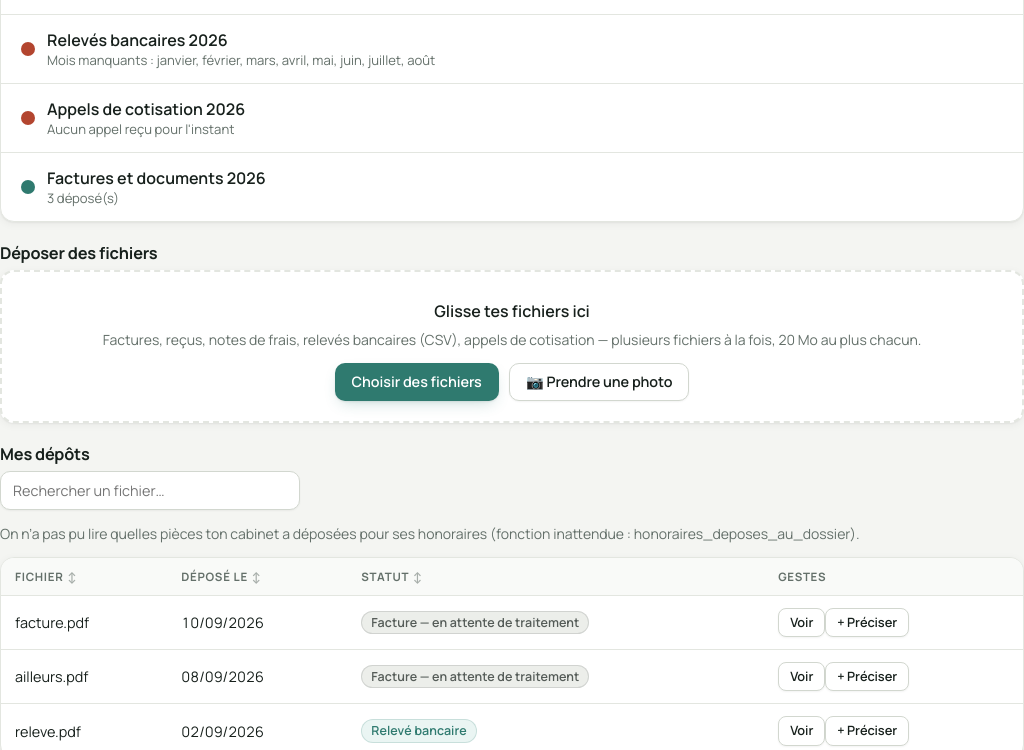
Test: « Voir » dans « Mes pièces » › un chemin d’un autre dossier n’est pas demandé au stockage, et l’échec se dit sans le chemin
(page scrolled)
What coordinates should you click on to do the following:
click the button "Voir" in the row of "ailleurs.pdf"
I would click on:
 (802, 677)
Its box is 778,662 -> 825,691.
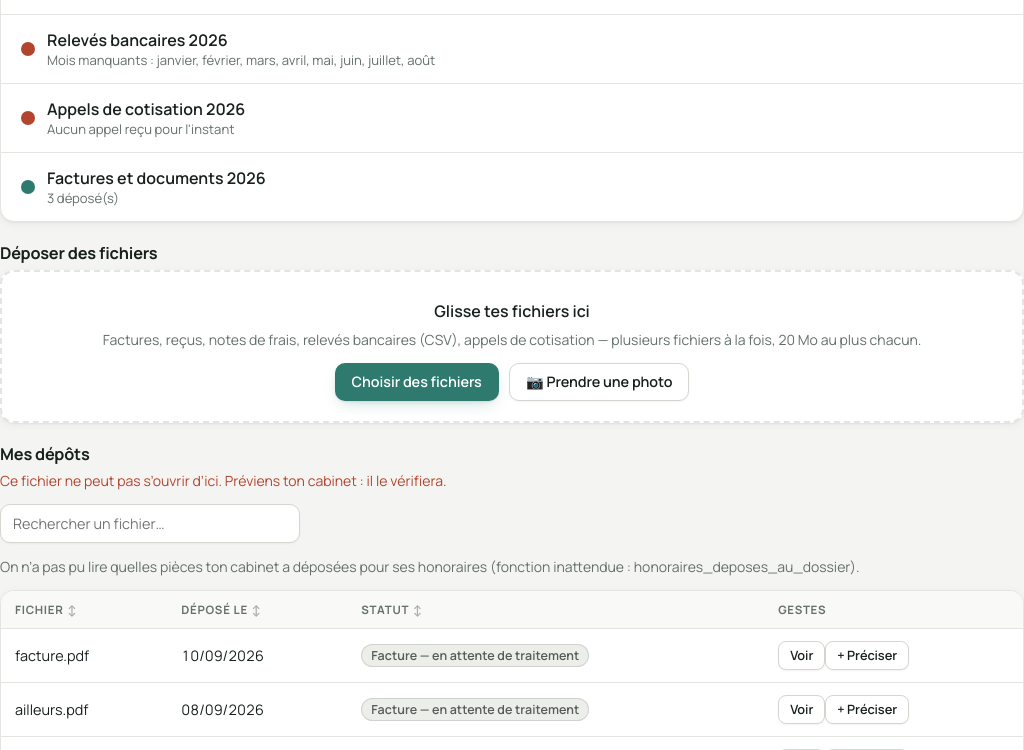
Expected: the message reads "Ce fichier ne peut pas s’ouvrir d’ici. Préviens ton cabinet : il le vérifiera.", 0,471 -> 446,490
